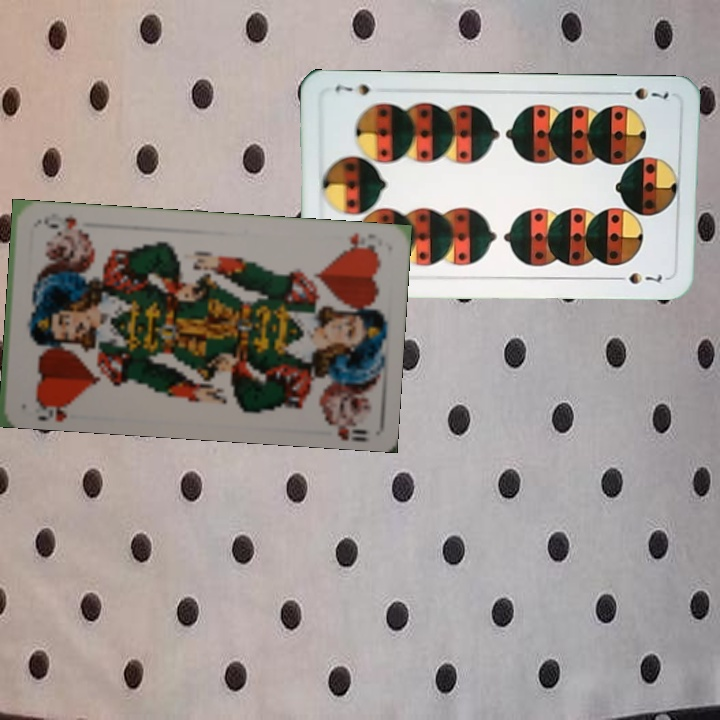HO: (32, 394, 77, 423), (339, 228, 381, 257)
S7: (615, 84, 671, 104)
